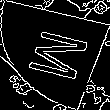M_E: (17, 26, 93, 84)
